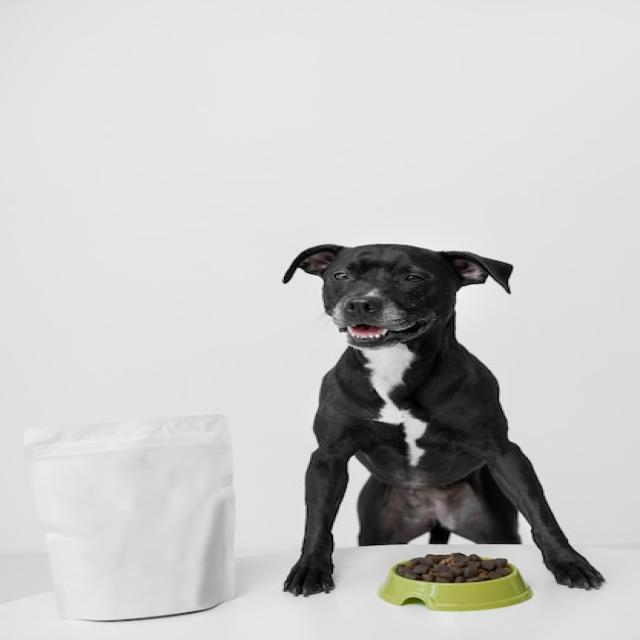Dog: (282, 241, 608, 597)
